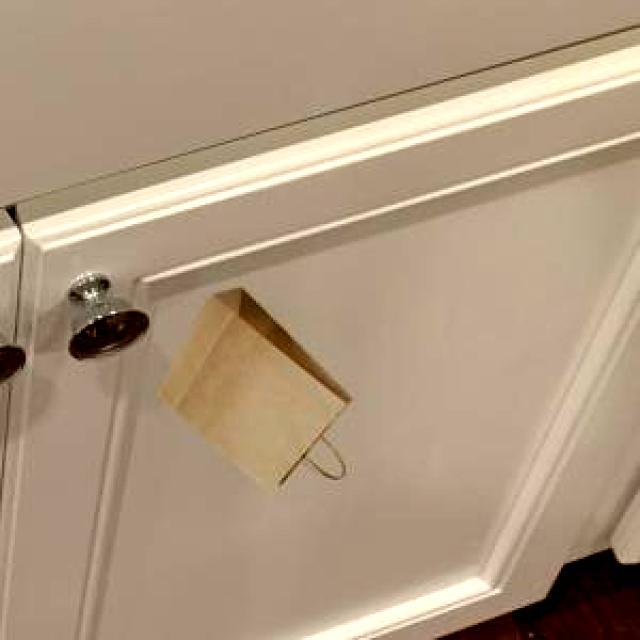Paper_Bag: (154, 284, 348, 488)
